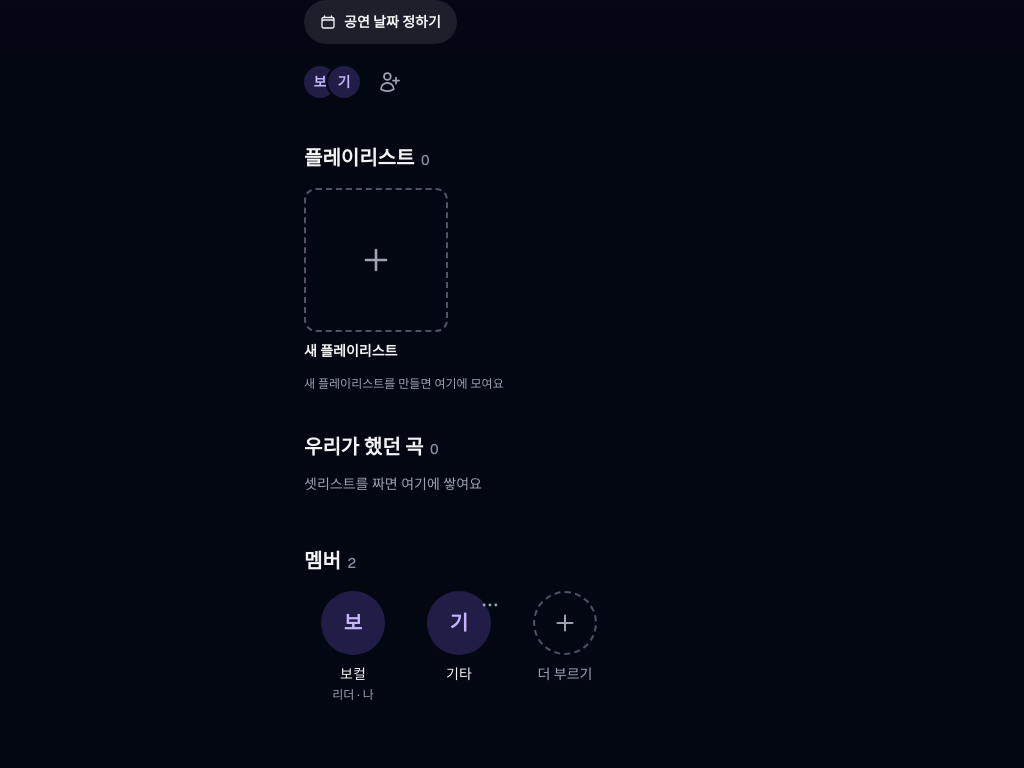
Test case: BandHomeClient member management (F1, 24B, R7) › lets the owner remove a member with the link rotation off by default
(page scrolled)
Click the button named "기타 메뉴" at (490, 605), box [468,583,512,627]
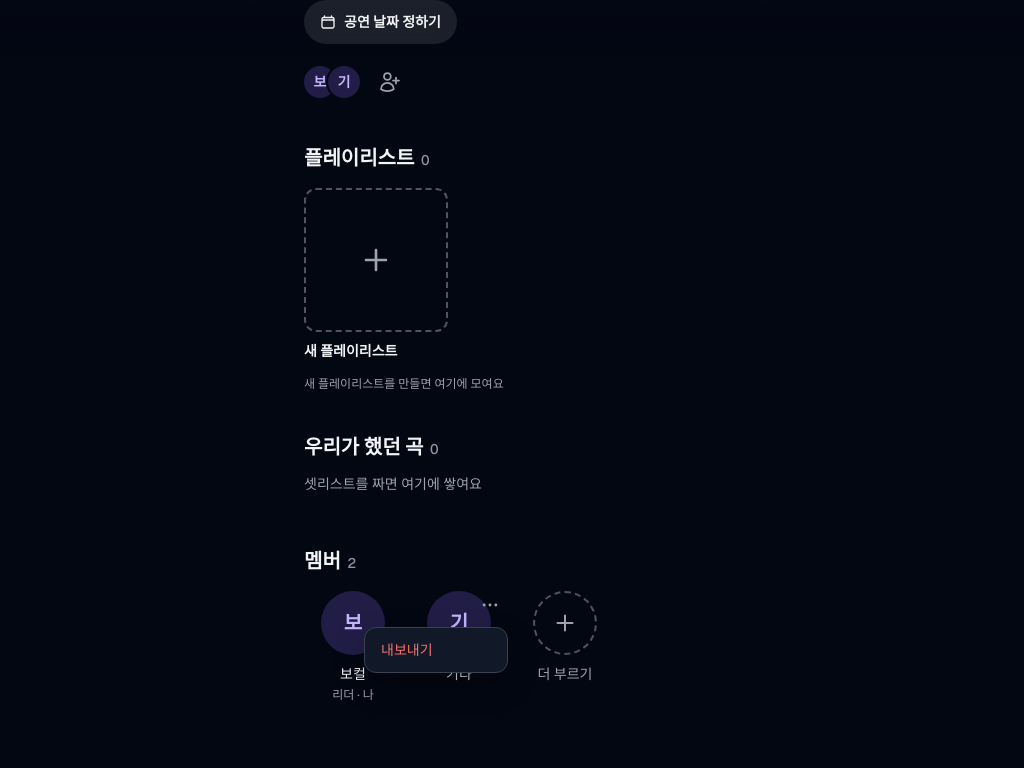
Click the menu item "내보내기" at (436, 650), box [365,628,507,672]
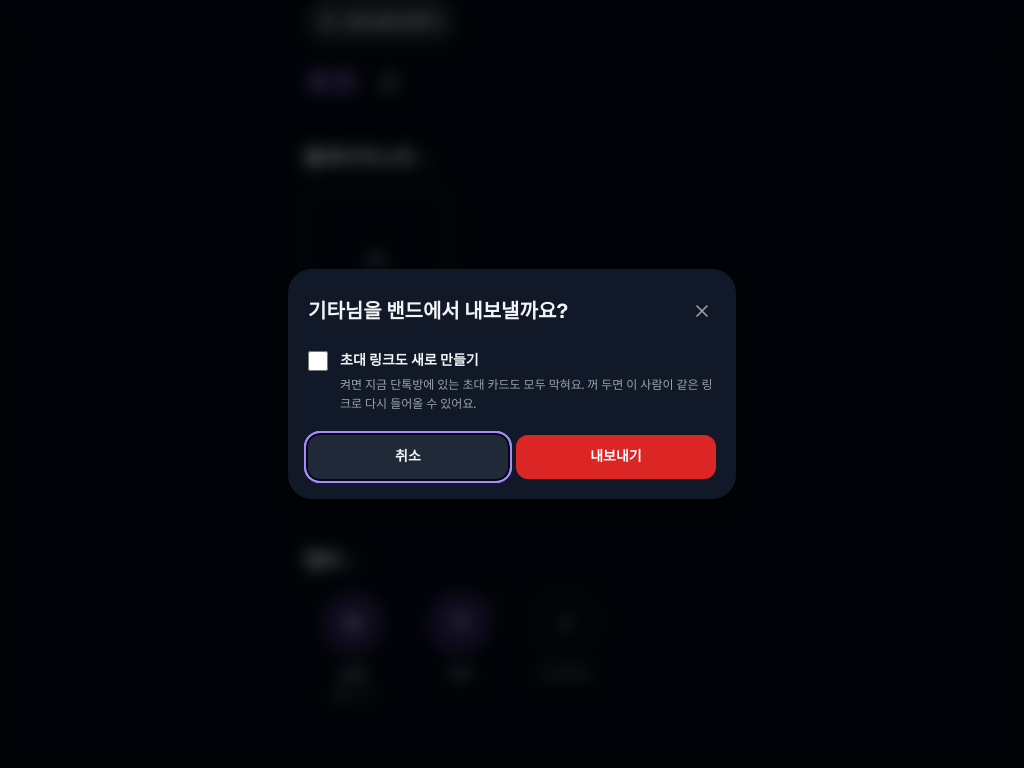
Now the checkbox labelled "초대 링크도 새로 만들기" is not checked, box [308,351,328,371]
Click the button "내보내기" at (616, 457), box [516,435,716,479]
(page scrolled)
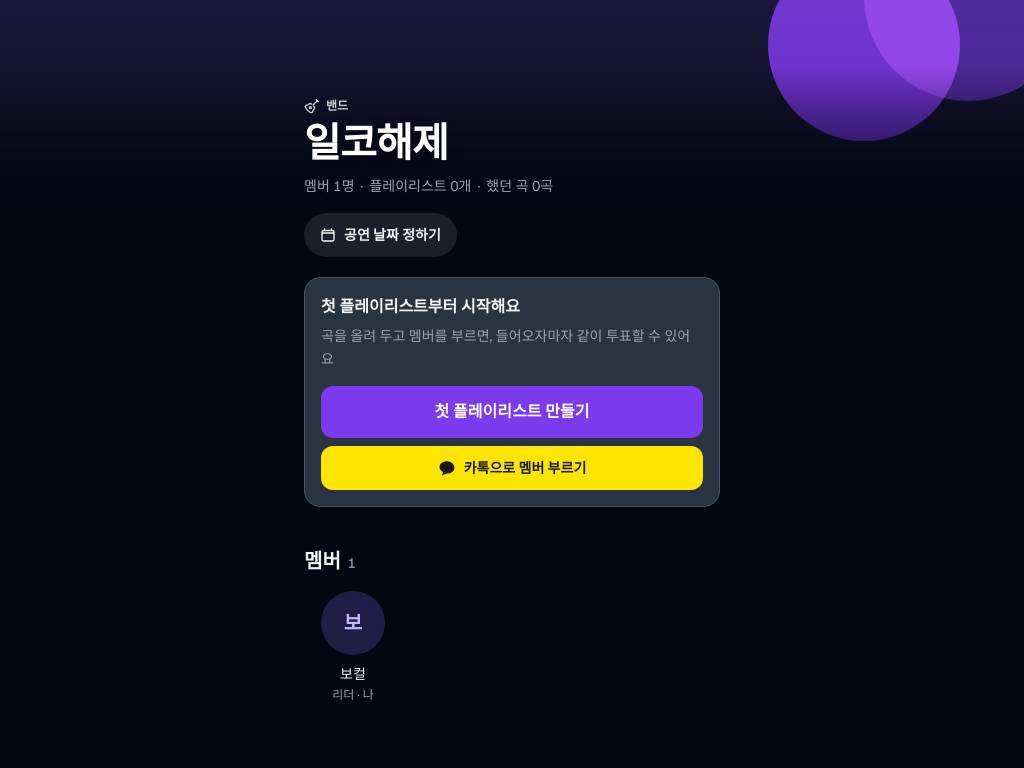
Expected: the text "기타" is not shown
Now the dialog is gone
